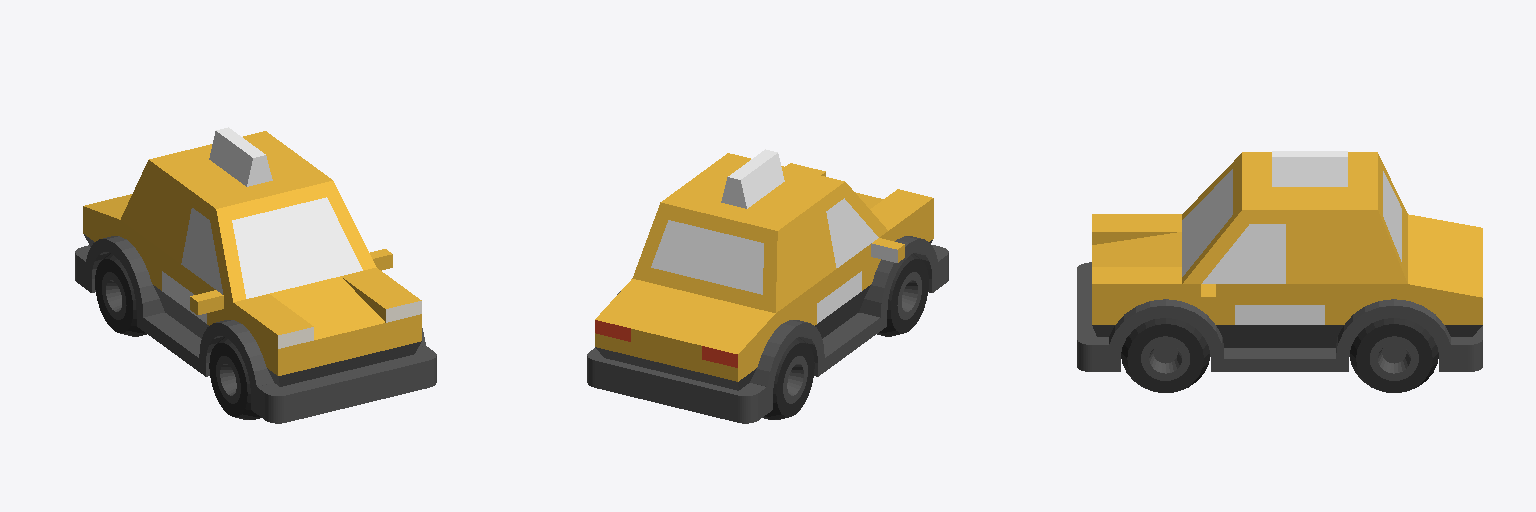
The model's file is taxi.obj.
3 renders of one model, left to right at view 1: azimuth 30°, elevation 25°; view 2: azimuth 150°, elevation 25°; view 3: azimuth 270°, elevation 25°, orthographic.
Parts seen in each view (by area): view 1: body, wheel_backRight, wheel_frontRight; view 2: body, wheel_frontRight, wheel_backRight; view 3: body, wheel_backLeft, wheel_frontLeft.
Part boxes in pixels (x1,y1,x2,y2): body: (75, 127, 436, 423); wheel_backRight: (95, 253, 146, 336); wheel_frontRight: (209, 337, 260, 419); body: (587, 149, 948, 423); wheel_frontRight: (877, 253, 928, 336); wheel_backRight: (763, 337, 814, 419); body: (1077, 151, 1482, 371); wheel_backLeft: (1350, 318, 1438, 392); wheel_frontLeft: (1121, 318, 1209, 392).
Size of the model in its own units: 59.06 by 59.06 by 106.